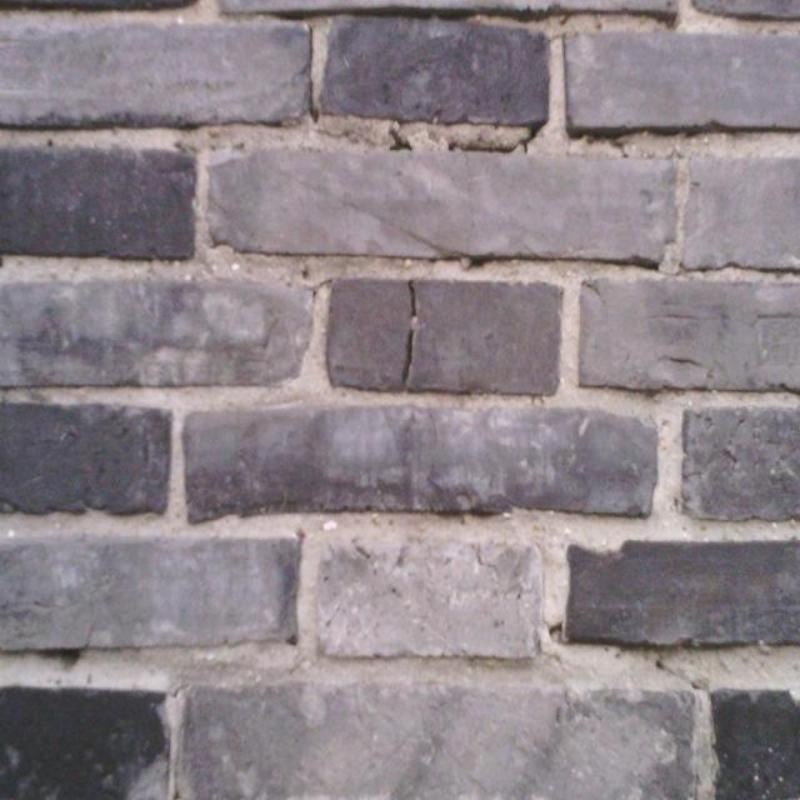pothole: (449, 125, 541, 154), (402, 281, 417, 385), (595, 134, 628, 159), (389, 130, 412, 151), (642, 265, 684, 276), (42, 649, 80, 660), (471, 259, 482, 265)
